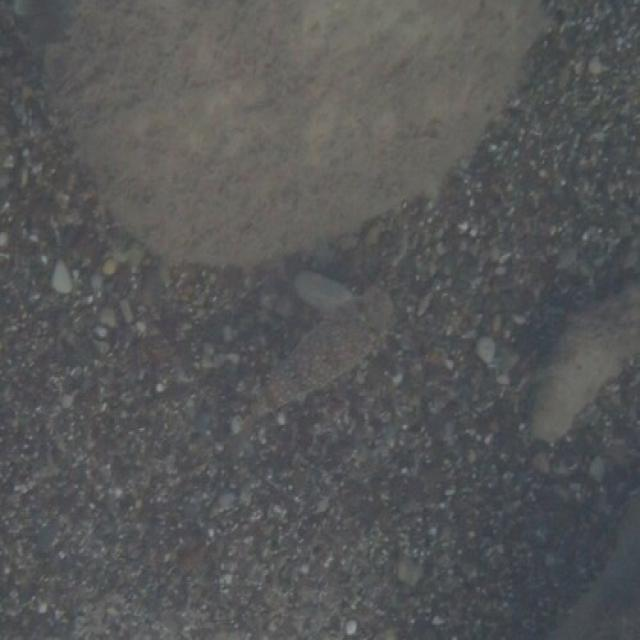Balik: (244, 287, 394, 426)
